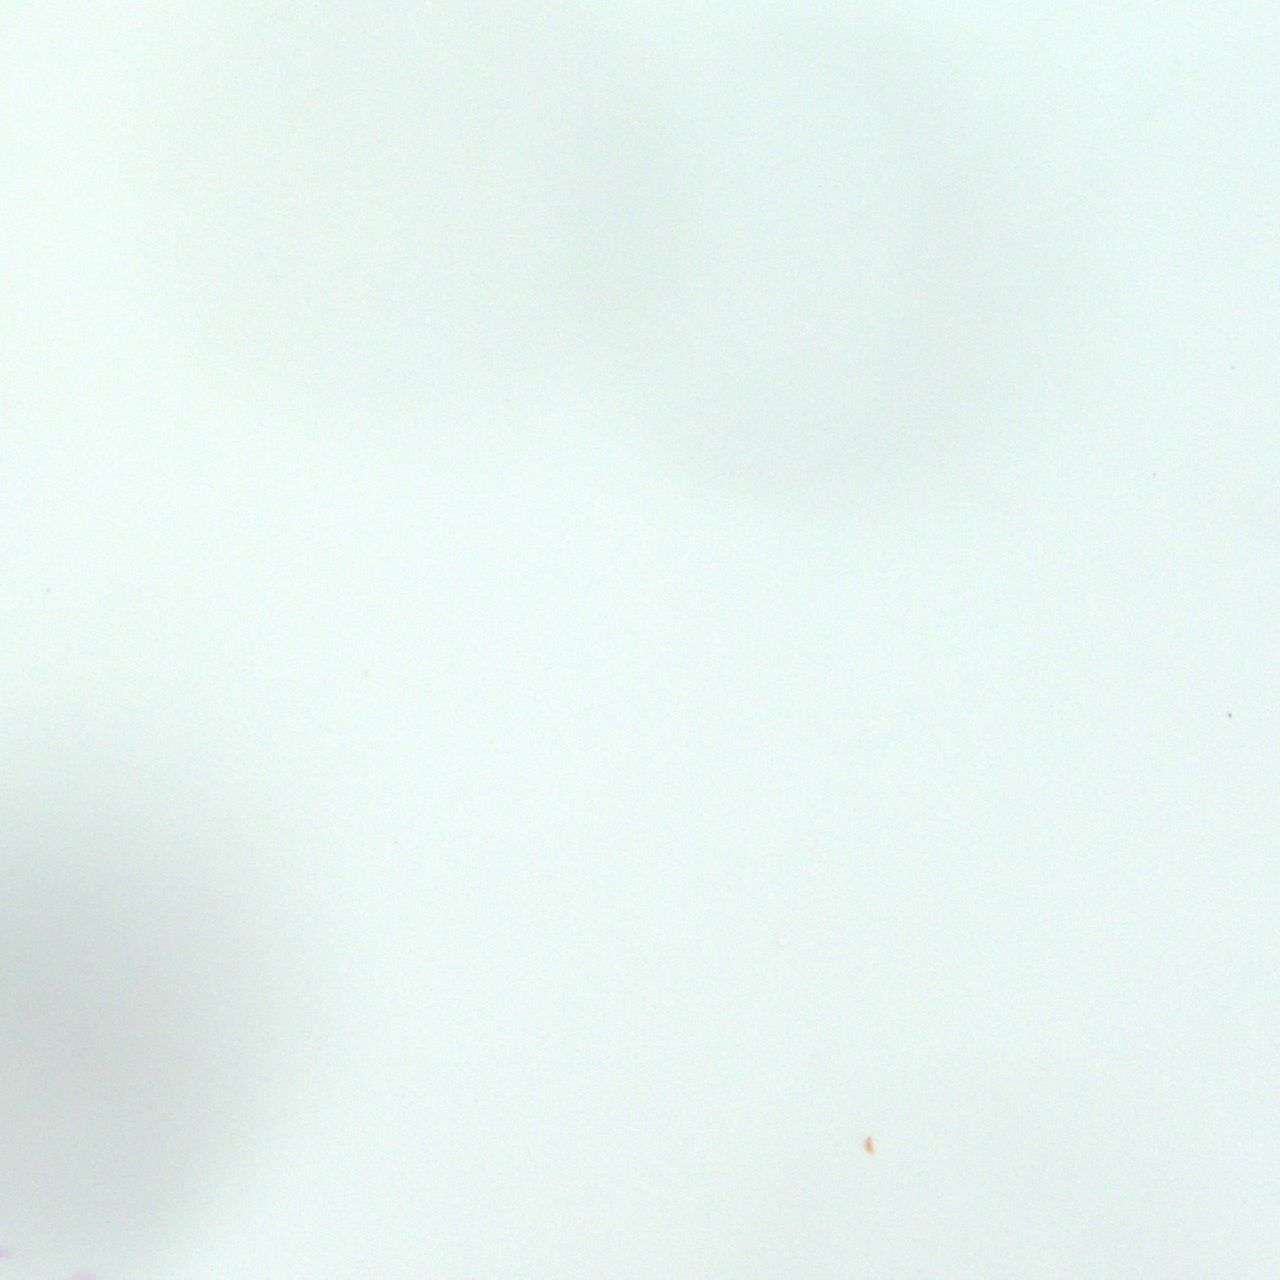dust: (862, 1131, 878, 1155)
